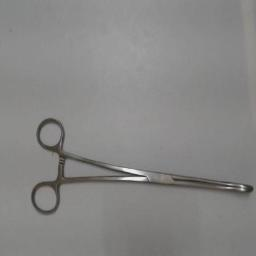Sponge Forceps: (28, 112, 256, 220)
